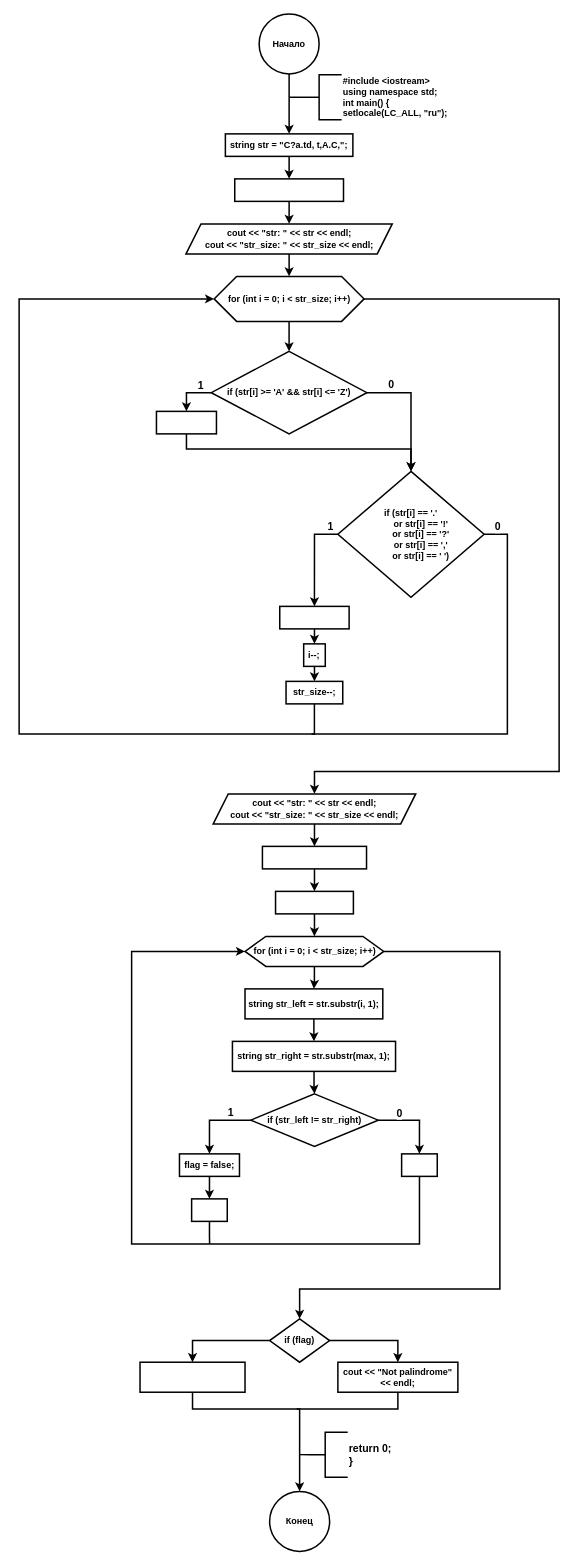
The diagram is 578 pixels wide and 1565 high, and some of its shapes have lost their labels. The shapes that lost their labels are listed below. From the top down, each one's centre as x and y in pixels, then its label:
the point at 289,190: int str_size = size(str);
the point at 186,422: str[i] += 32;
the point at 314,617: str.erase(i, 1);
the point at 314,857: int max = str_size - 1;
the point at 314,902: bool flag = true;
the point at 419,1165: max--;
the point at 209,1210: break;
the point at 192,1377: cout << "Palindrome" << endl;
